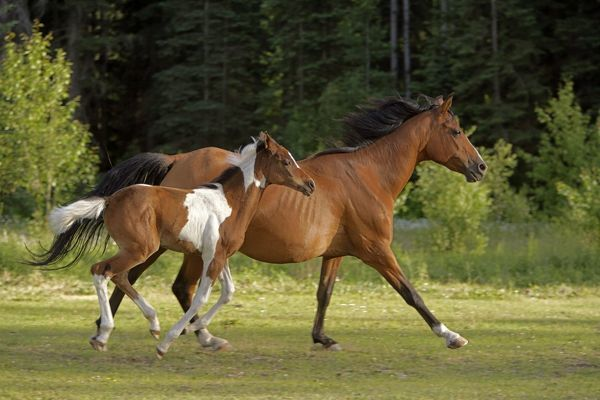Horse: (34, 78, 488, 388), (47, 130, 315, 363)
